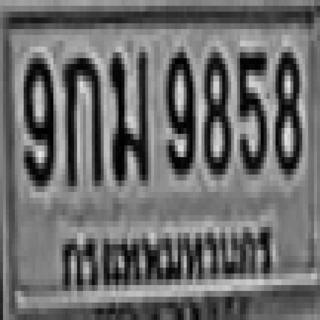A01: (61, 52, 99, 186)
A33: (108, 47, 147, 180)
N05: (235, 47, 265, 169)
N08: (201, 47, 228, 169), (273, 49, 299, 172)
N09: (22, 52, 52, 180), (163, 47, 193, 169)
P04: (57, 216, 280, 290)
